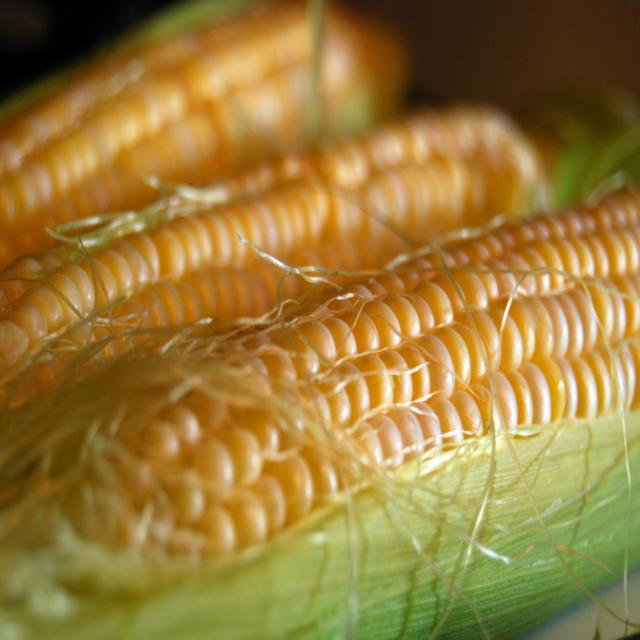corn: (67, 176, 640, 612), (0, 104, 549, 421)
